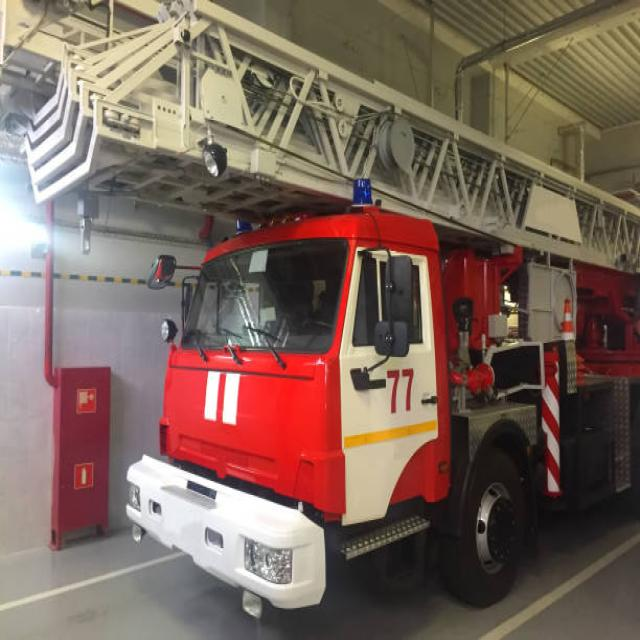emergency: (26, 3, 640, 613)
